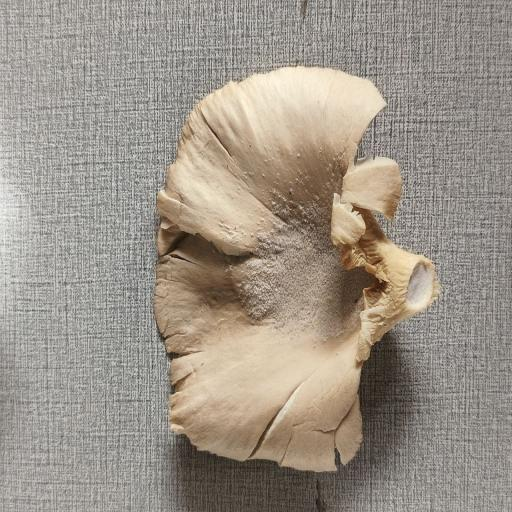White Oyster Mushroom: (154, 64, 440, 482)
